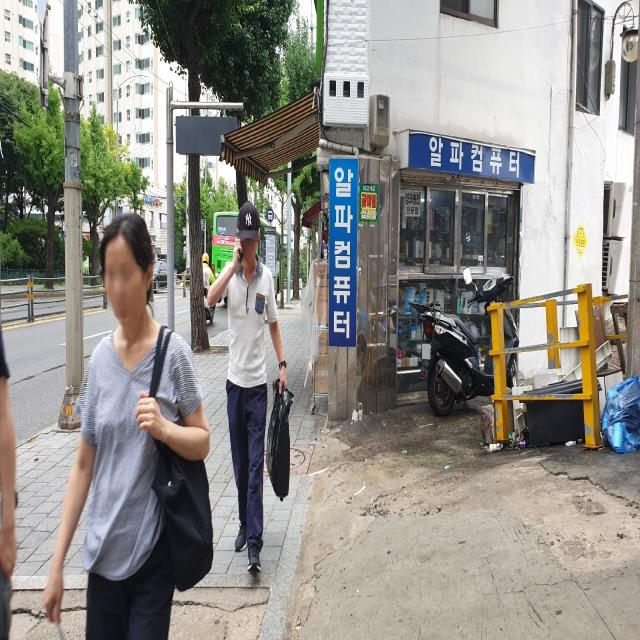motorbike: (408, 266, 518, 418)
